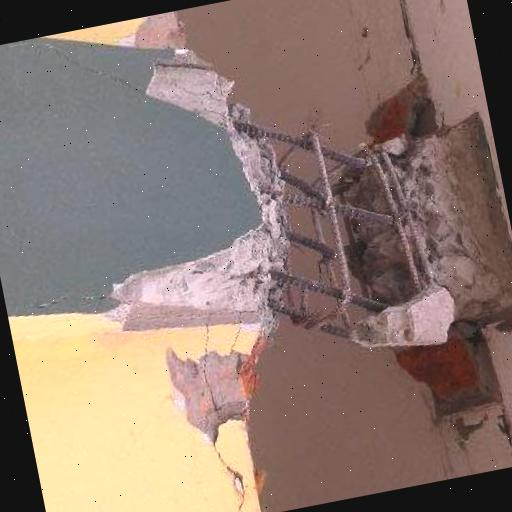spalling: (102, 60, 512, 349), (159, 343, 246, 445)
